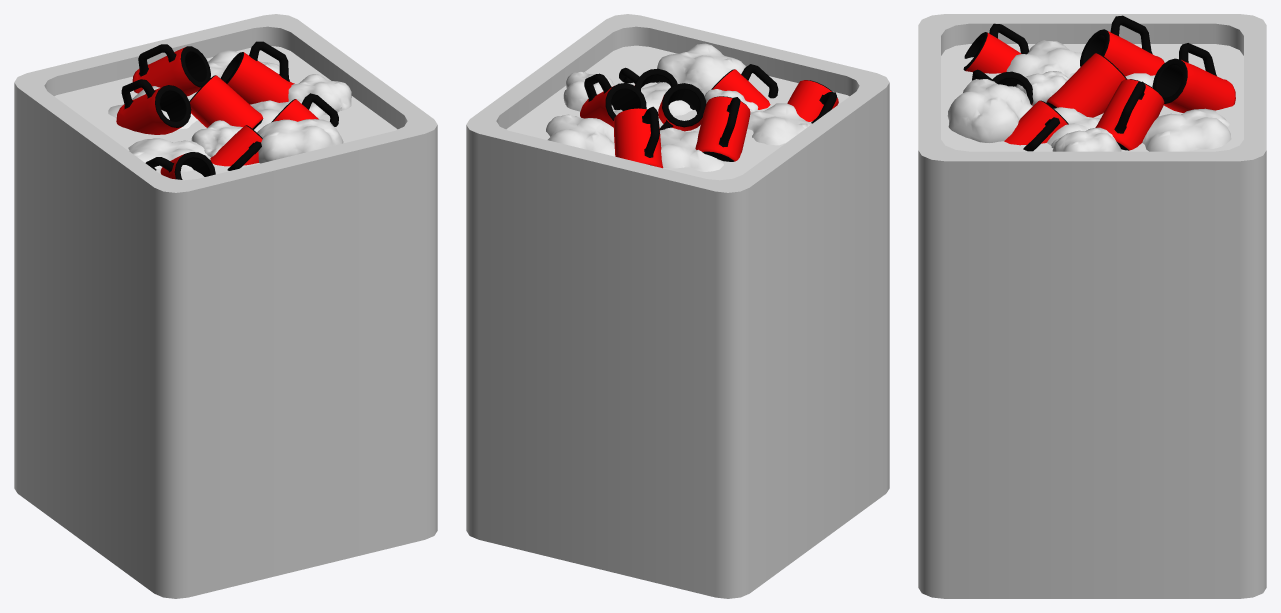
The model's file is SM_Sink.fbx.
The picture shows the model from 3 angles, left to right: view 1: azimuth 30°, elevation 25°; view 2: azimuth 150°, elevation 25°; view 3: azimuth 270°, elevation 25°; orthographic projection. The views are drawn at different scales.
Parts seen in each view (by area): view 1: Cube.014, SM_BeerGlass.005, SM_BeerGlass.004, SM_BeerGlass.006, Cube.020, SM_BeerGlass.003, Cube.016, SM_BeerGlass.001, Cube.021, SM_BeerGlass.007, SM_BeerGlass.002, Cube.015 (+2 smaller); view 2: Cube.014, SM_BeerGlass.005, SM_BeerGlass.006, Cube.020, Cube.017, SM_BeerGlass.004, Cube.018, Cube.021, SM_BeerGlass.003, SM_BeerGlass.007, SM_BeerGlass.001, Cube.016 (+2 smaller); view 3: Cube.014, Cube.020, SM_BeerGlass.006, Cube.017, SM_BeerGlass.004, SM_BeerGlass.003, SM_BeerGlass.005, SM_BeerGlass.007, Cube.021, SM_BeerGlass.002, Cube.016, Cube.015 (+2 smaller).
Boxes of the visible parts, bbox=[...] form: Cube.014: bbox=[14, 14, 437, 598]; SM_BeerGlass.005: bbox=[116, 79, 191, 134]; SM_BeerGlass.004: bbox=[220, 41, 294, 104]; SM_BeerGlass.006: bbox=[132, 44, 210, 96]; Cube.020: bbox=[257, 119, 343, 163]; SM_BeerGlass.003: bbox=[189, 75, 263, 129]; Cube.016: bbox=[288, 74, 351, 118]; SM_BeerGlass.001: bbox=[210, 125, 262, 170]; Cube.021: bbox=[128, 138, 207, 171]; SM_BeerGlass.007: bbox=[145, 152, 215, 179]; SM_BeerGlass.002: bbox=[271, 93, 338, 126]; Cube.015: bbox=[191, 120, 242, 157]; Cube.014: bbox=[466, 14, 889, 598]; SM_BeerGlass.005: bbox=[695, 96, 750, 161]; SM_BeerGlass.006: bbox=[613, 106, 663, 168]; Cube.020: bbox=[657, 43, 745, 95]; Cube.017: bbox=[546, 114, 615, 156]; SM_BeerGlass.004: bbox=[580, 73, 646, 127]; Cube.018: bbox=[660, 127, 723, 171]; Cube.021: bbox=[747, 103, 811, 145]; SM_BeerGlass.003: bbox=[658, 83, 706, 131]; SM_BeerGlass.007: bbox=[787, 80, 838, 123]; SM_BeerGlass.001: bbox=[711, 64, 778, 109]; Cube.016: bbox=[563, 71, 614, 111]; Cube.014: bbox=[918, 14, 1266, 598]; Cube.020: bbox=[947, 79, 1032, 142]; SM_BeerGlass.006: bbox=[1152, 43, 1235, 112]; Cube.017: bbox=[1142, 108, 1231, 151]; SM_BeerGlass.004: bbox=[1095, 79, 1164, 150]; SM_BeerGlass.003: bbox=[1046, 53, 1126, 117]; SM_BeerGlass.005: bbox=[1080, 15, 1164, 76]; SM_BeerGlass.007: bbox=[963, 23, 1028, 73]; Cube.021: bbox=[1006, 40, 1081, 77]; SM_BeerGlass.002: bbox=[1004, 100, 1068, 151]; Cube.016: bbox=[1051, 127, 1121, 151]; Cube.015: bbox=[1014, 71, 1069, 105].
Size of the model in its own units: 144 by 216 by 144.
